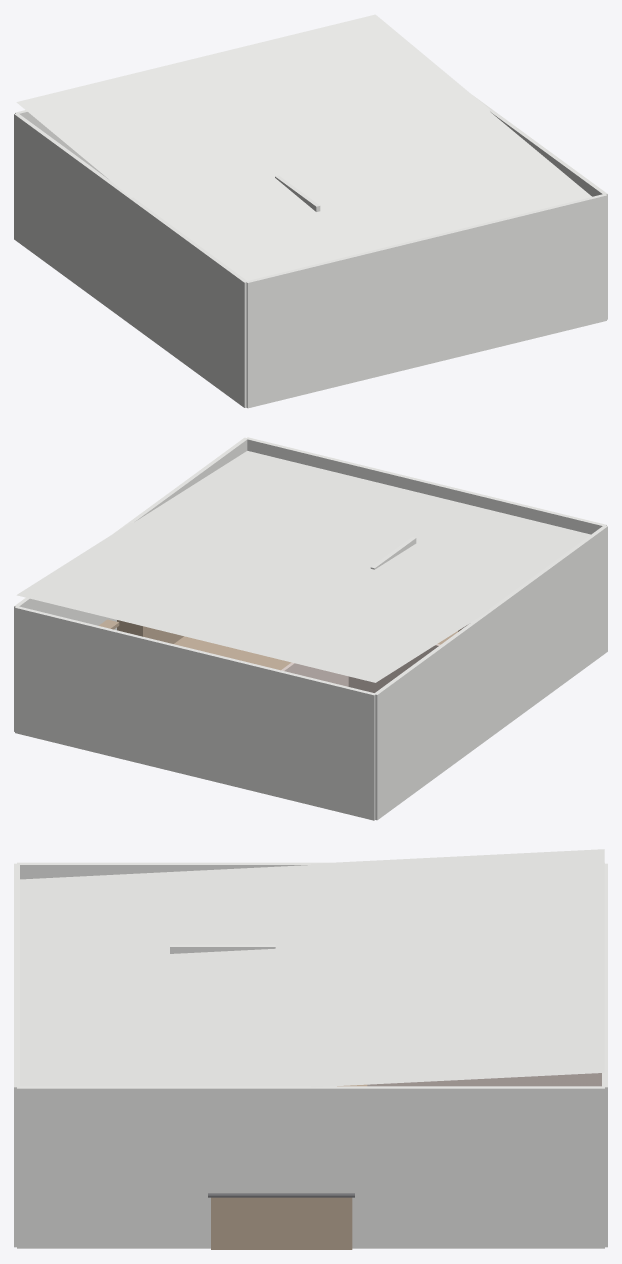
3 renders of one model, top to bottom at view 1: azimuth 30°, elevation 25°; view 2: azimuth 150°, elevation 25°; view 3: azimuth 270°, elevation 25°, orthographic. The views are drawn at different scales.
Visible parts, largest first — view 1: Ceiling, WallS, WallW, WallE; view 2: Ceiling, WallN, WallW, WallS, WallE, Floor, VIPPartitionS, VIPPartitionE, DyeCounter; view 3: Ceiling, WallE, DyeCounter, WallW, VIPPartitionE, WallS, WallN, ProductWall, DyeCounterTop.
Boxes of the visible parts, x1,y1,x2,y2 form: Ceiling: (16, 14, 591, 280); WallS: (245, 193, 606, 408); WallW: (14, 113, 247, 407); WallE: (473, 95, 607, 319); Ceiling: (16, 451, 590, 682); WallN: (15, 606, 375, 820); WallW: (375, 525, 607, 820); WallS: (246, 437, 606, 534); WallE: (14, 437, 247, 731); Floor: (174, 631, 457, 670); VIPPartitionS: (348, 644, 440, 692); VIPPartitionE: (281, 662, 348, 686); DyeCounter: (117, 620, 183, 643); Ceiling: (20, 849, 604, 1087); WallE: (17, 1086, 604, 1248); DyeCounter: (211, 1197, 352, 1249); WallW: (17, 862, 604, 879); VIPPartitionE: (369, 1073, 601, 1086); WallS: (14, 863, 19, 1247); WallN: (602, 863, 607, 1247); ProductWall: (170, 944, 275, 953); DyeCounterTop: (208, 1193, 354, 1197).
Bounding box in the file's own units: 9.2 × 3.27 × 10.1.
